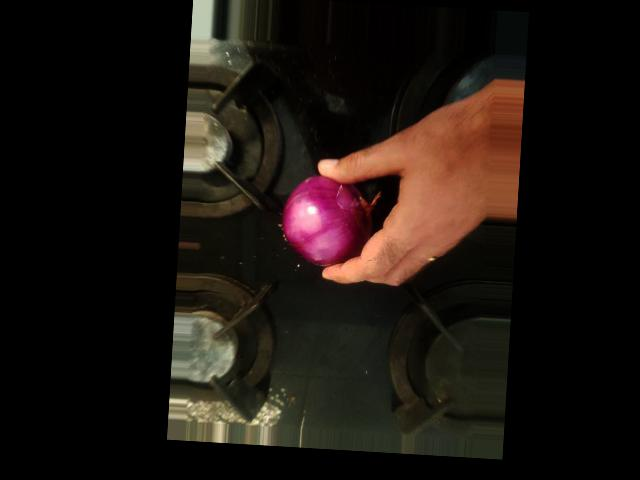onion: (224, 256, 323, 340)
